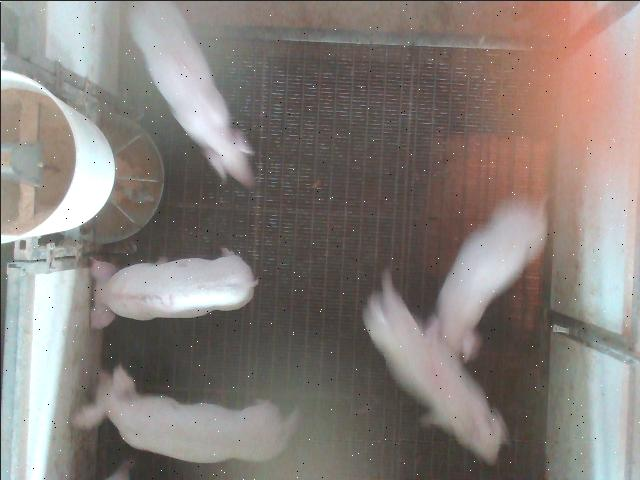pig-3: (90, 248, 256, 326)
